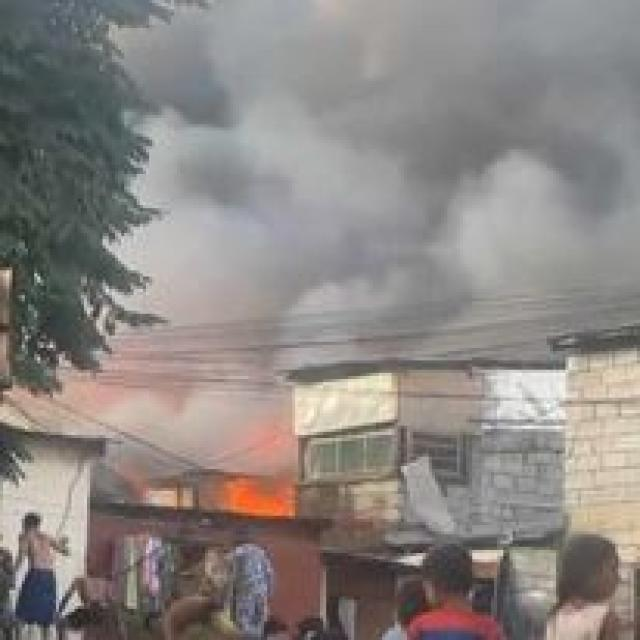Fire: (222, 466, 306, 520)
Smoke: (177, 6, 640, 345)
